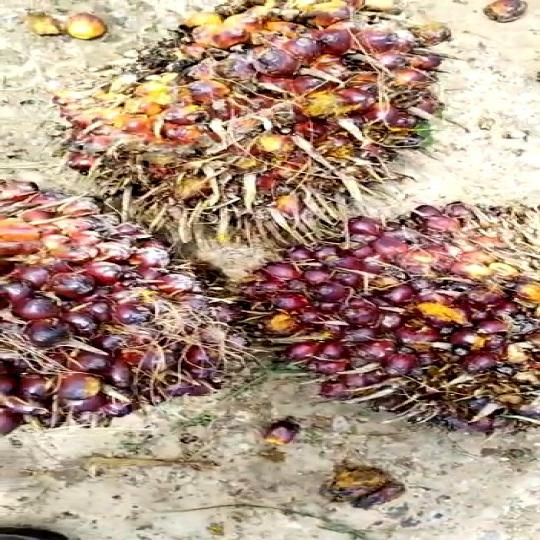masak: (69, 3, 472, 236), (239, 200, 540, 440), (0, 166, 253, 444)
